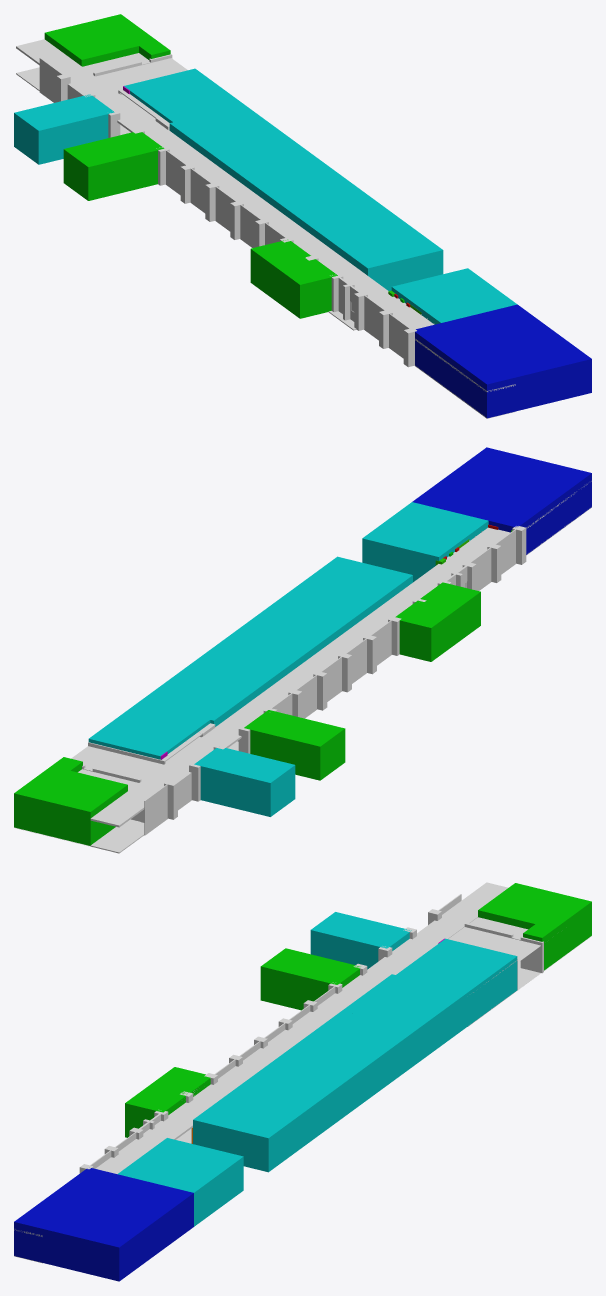
Rendered from BaseModel_Ver5_1F.fbx.
3 renders of one model, top to bottom at view 1: azimuth 30°, elevation 25°; view 2: azimuth 150°, elevation 25°; view 3: azimuth 330°, elevation 25°, orthographic.
Visible parts, largest first — view 1: 校長室.001, 部屋.002, 床.002, 部屋.003, 部屋.004, 校長室, 部屋.001, 事務室, 部屋, 部屋.007, 部屋.006, 事務室.006 (+4 smaller); view 2: 校長室.001, 部屋.002, 床.002, 部屋, 部屋.001, 部屋.004, 部屋.003, 校長室, 事務室, 部屋.006, 部屋.007, 事務室.006 (+3 smaller); view 3: 校長室.001, 部屋.002, 床.002, 部屋.001, 校長室, 事務室, 部屋, 部屋.003, 部屋.004, 部屋.007, 事務室.006, 部屋.006 (+2 smaller).
Part boxes in pixels (x1=…): 校長室.001: x1=219, y1=141, x2=443, y2=290; 部屋.002: x1=415, y1=304, x2=591, y2=418; 床.002: x1=16, y1=39, x2=515, y2=391; 部屋.003: x1=63, y1=132, x2=164, y2=200; 部屋.004: x1=14, y1=94, x2=114, y2=164; 校長室: x1=169, y1=105, x2=293, y2=166; 部屋.001: x1=391, y1=268, x2=517, y2=324; 事務室: x1=124, y1=68, x2=244, y2=122; 部屋: x1=44, y1=14, x2=157, y2=66; 部屋.007: x1=275, y1=259, x2=337, y2=318; 部屋.006: x1=250, y1=239, x2=310, y2=300; 事務室.006: x1=96, y1=58, x2=187, y2=92; 校長室.001: x1=188, y1=556, x2=412, y2=691; 部屋.002: x1=412, y1=447, x2=591, y2=554; 床.002: x1=90, y1=481, x2=591, y2=827; 部屋: x1=14, y1=766, x2=127, y2=845; 部屋.001: x1=362, y1=502, x2=488, y2=582; 部屋.004: x1=194, y1=748, x2=295, y2=816; 部屋.003: x1=244, y1=710, x2=345, y2=780; 校長室: x1=139, y1=666, x2=263, y2=726; 事務室: x1=88, y1=702, x2=210, y2=759; 部屋.006: x1=395, y1=600, x2=455, y2=661; 部屋.007: x1=420, y1=582, x2=480, y2=643; 事務室.006: x1=71, y1=746, x2=163, y2=780; 校長室.001: x1=193, y1=1010, x2=417, y2=1172; 部屋.002: x1=14, y1=1168, x2=193, y2=1281; 床.002: x1=14, y1=882, x2=508, y2=1236; 部屋.001: x1=117, y1=1138, x2=243, y2=1226; 校長室: x1=342, y1=974, x2=467, y2=1062; 事務室: x1=396, y1=938, x2=517, y2=1026; 部屋: x1=478, y1=883, x2=591, y2=962; 部屋.003: x1=260, y1=948, x2=360, y2=1010; 部屋.004: x1=310, y1=912, x2=411, y2=969; 部屋.007: x1=125, y1=1085, x2=186, y2=1137; 事務室.006: x1=448, y1=927, x2=540, y2=962; 部屋.006: x1=150, y1=1067, x2=210, y2=1096.
Size of the model in its own units: 1910 by 359 by 8550.
